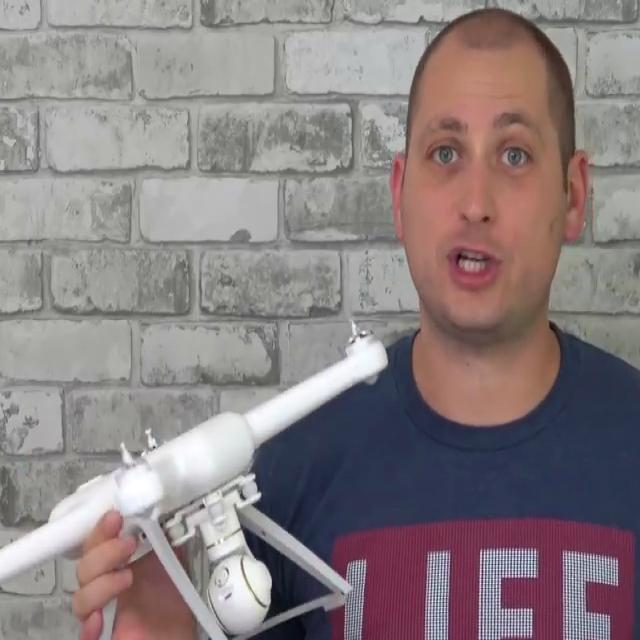drone: (0, 306, 397, 640)
